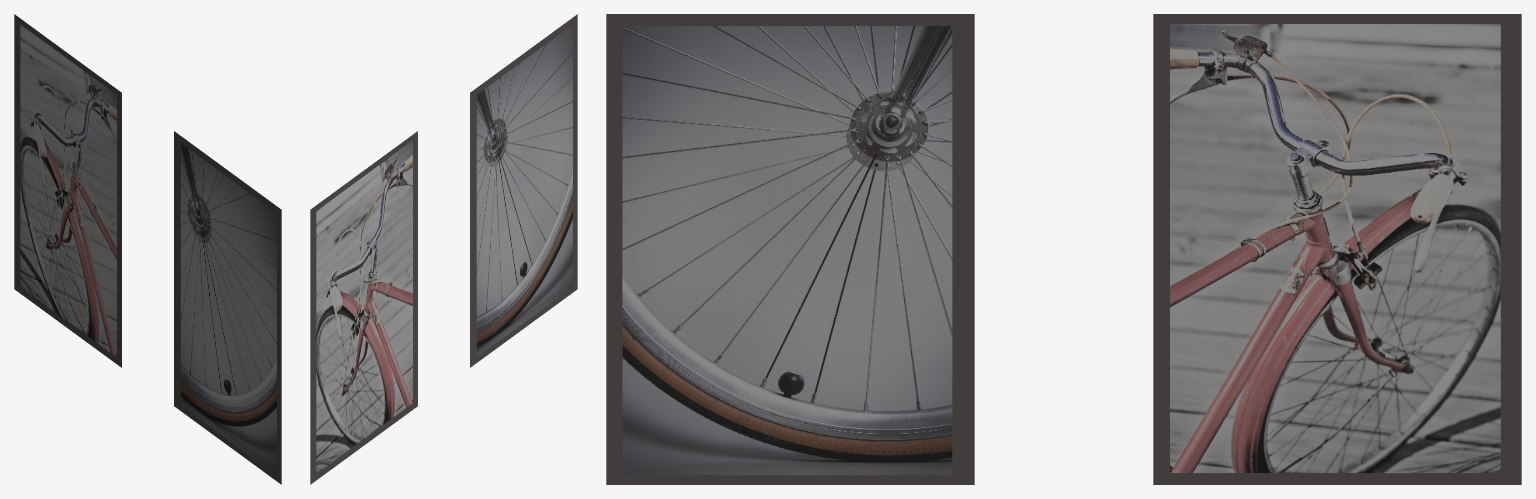
The model's file is cuadros.FBX.
The picture shows the model from 3 angles, left to right: view 1: azimuth 30°, elevation 25°; view 2: azimuth 150°, elevation 25°; view 3: azimuth 270°, elevation 25°; orthographic projection. The views are drawn at different scales.
Visible parts, largest first — view 1: Plane001, Plane002; view 2: Plane001, Plane002; view 3: Plane001, Plane002.
Boxes of the visible parts, x1=… form: Plane001: x1=14, y1=14, x2=121, y2=367; Plane002: x1=174, y1=131, x2=281, y2=484; Plane001: x1=310, y1=131, x2=417, y2=484; Plane002: x1=470, y1=14, x2=577, y2=367; Plane001: x1=1153, y1=14, x2=1521, y2=484; Plane002: x1=606, y1=14, x2=974, y2=484.
Size of the model in its own units: 0 by 1.2 by 2.11.
1 material, 1 textured.
